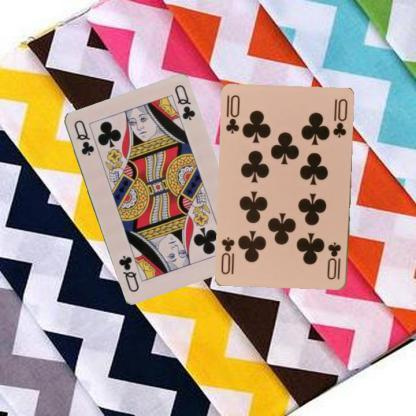10c: (223, 93, 242, 135), (324, 240, 342, 282)
Qc: (70, 117, 96, 157)
